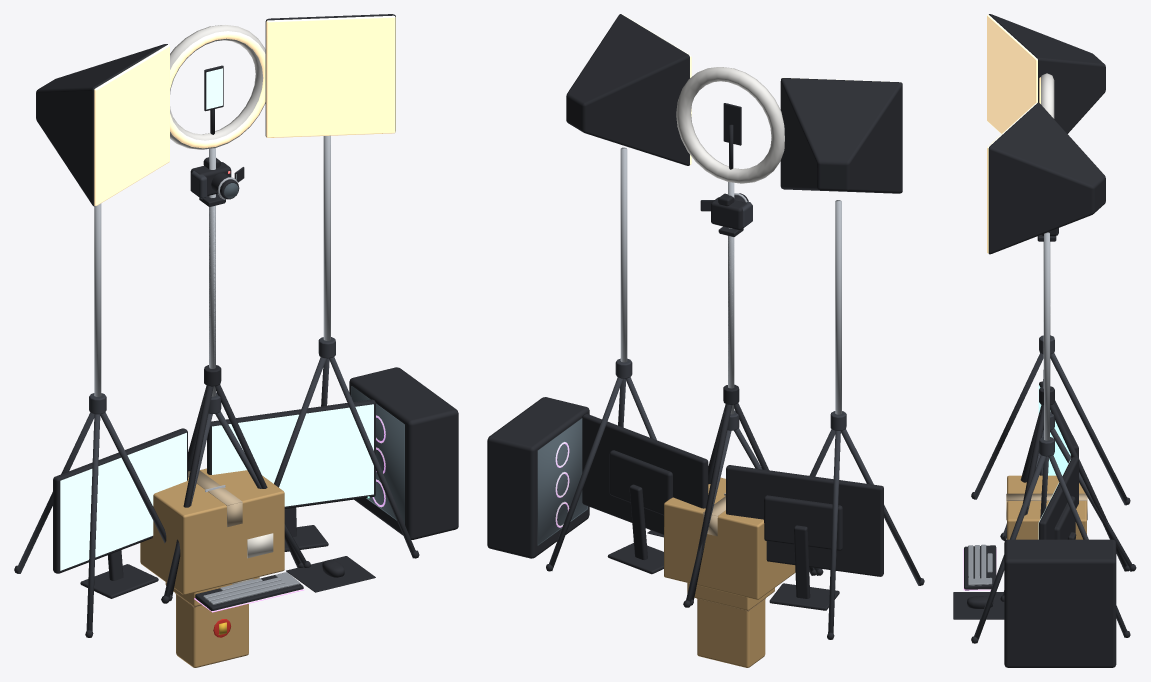
Rendered from props.glb.
3 renders of one model, left to right at view 1: azimuth 30°, elevation 25°; view 2: azimuth 150°, elevation 25°; view 3: azimuth 270°, elevation 25°, orthographic. The views are drawn at different scales.
Parts seen in each view (by area): view 1: workstation_mesh, softbox_kit_mesh, box_stack_unit_mesh, ring_light_mesh, mirrorless_camera_mesh, takeout_bag_mesh; view 2: workstation_mesh, softbox_kit_mesh, ring_light_mesh, box_stack_unit_mesh, takeout_bag_mesh, mirrorless_camera_mesh, box_small_mesh; view 3: softbox_kit_mesh, workstation_mesh, ring_light_mesh, box_stack_unit_mesh, mirrorless_camera_mesh.
Part boxes in pixels (left/top/right/bottom): workstation_mesh: left=53, top=367, right=458, bottom=612; softbox_kit_mesh: left=14, top=14, right=419, bottom=637; box_stack_unit_mesh: left=140, top=468, right=284, bottom=594; ring_light_mesh: left=169, top=25, right=303, bottom=601; mirrorless_camera_mesh: left=161, top=157, right=310, bottom=603; takeout_bag_mesh: left=175, top=593, right=248, bottom=667; workstation_mesh: left=487, top=397, right=883, bottom=610; softbox_kit_mesh: left=546, top=14, right=924, bottom=639; ring_light_mesh: left=676, top=67, right=816, bottom=605; box_stack_unit_mesh: left=664, top=477, right=795, bottom=599; takeout_bag_mesh: left=697, top=598, right=765, bottom=667; mirrorless_camera_mesh: left=683, top=193, right=823, bottom=607; box_small_mesh: left=687, top=583, right=774, bottom=610; softbox_kit_mesh: left=971, top=14, right=1130, bottom=643; workstation_mesh: left=953, top=381, right=1116, bottom=667; ring_light_mesh: left=1003, top=73, right=1129, bottom=571; box_stack_unit_mesh: left=1006, top=475, right=1087, bottom=539; mirrorless_camera_mesh: left=1000, top=228, right=1136, bottom=601.
Bounding box in the file's own units: 1.53 × 2.36 × 0.685.
